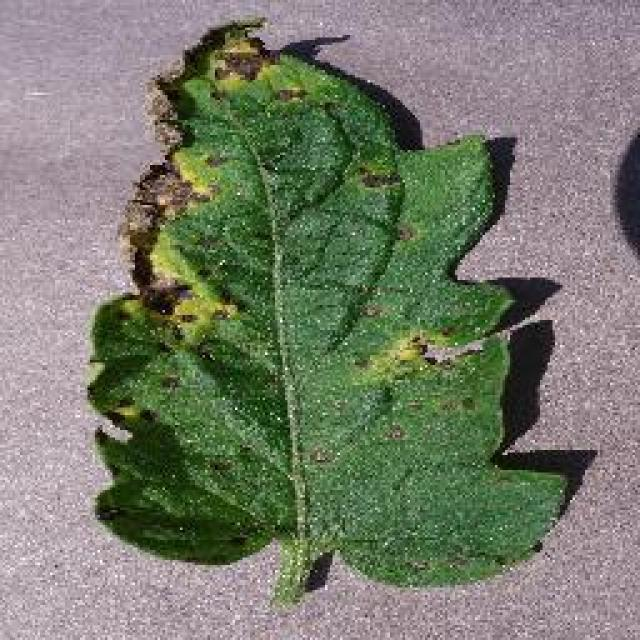Tomato Septoria spot leaf: (84, 21, 567, 586)
